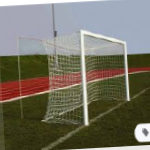goals: (40, 28, 132, 126)
